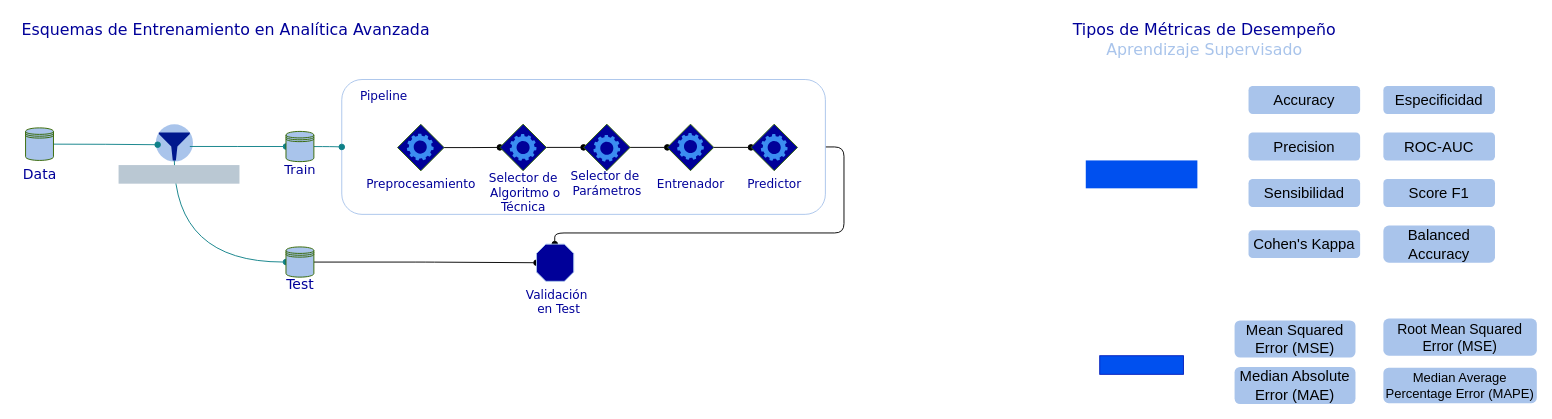
The diagram is 1552 pixels wide and 419 high, and some of its shapes have lost their labels. The shapes that lost their labels are listed below. From the top down, each one's centre as x and y in pixels, then its label:
[178,174]: Particionamiento
[1141,174]: Clasificación
[1141,364]: Regresión
